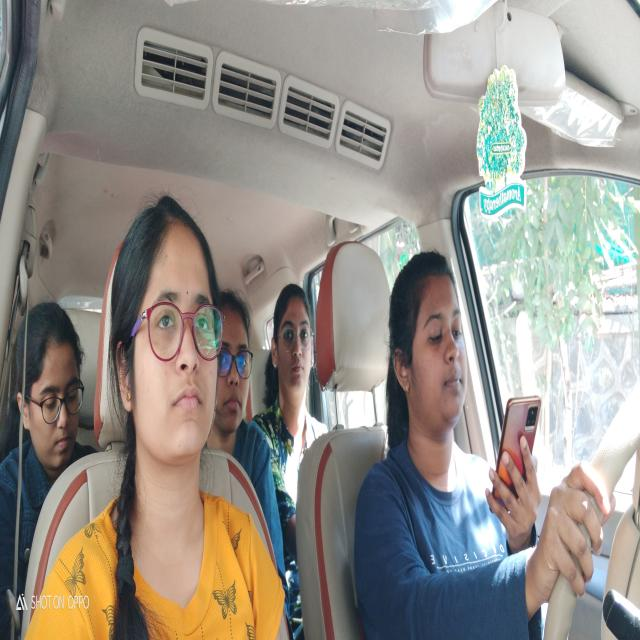mobile: (491, 387, 542, 528)
person: (108, 194, 220, 491), (387, 246, 473, 469), (12, 303, 87, 471), (268, 278, 316, 423), (216, 287, 256, 434)
